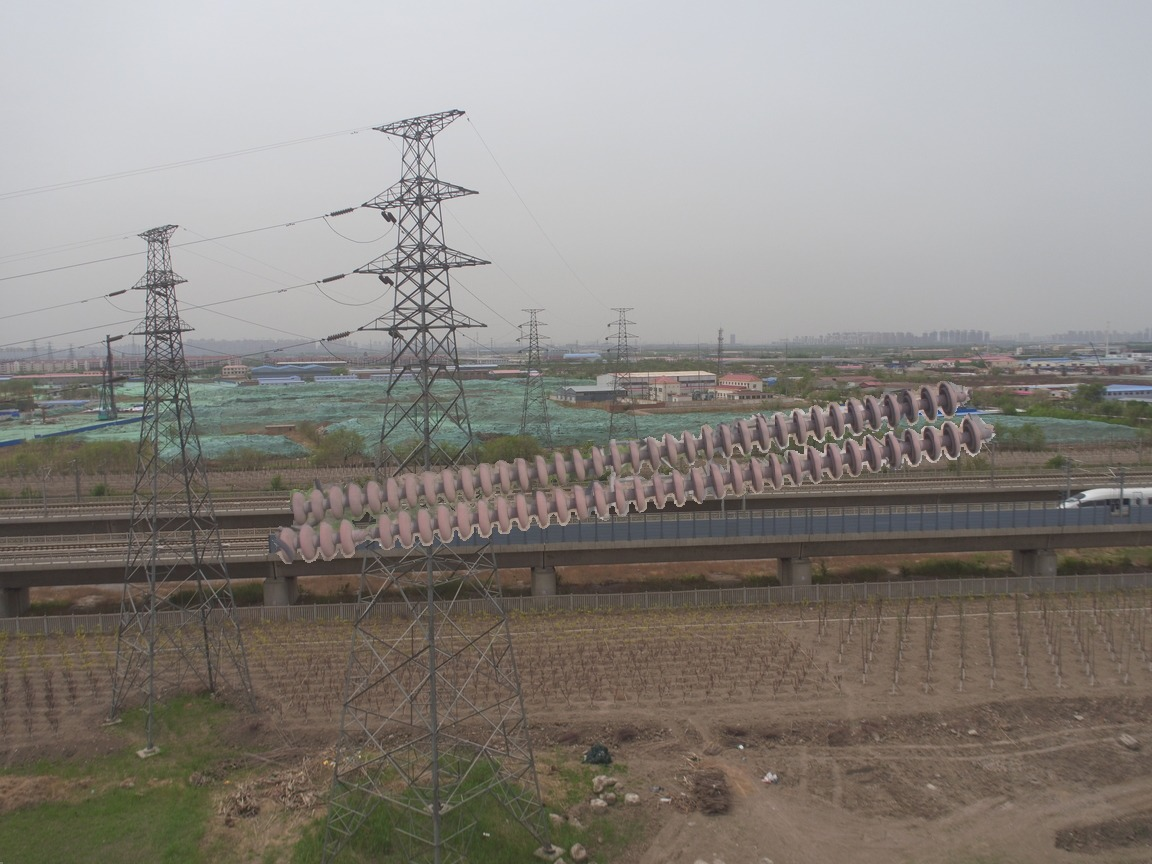defect: (333, 512, 400, 559)
